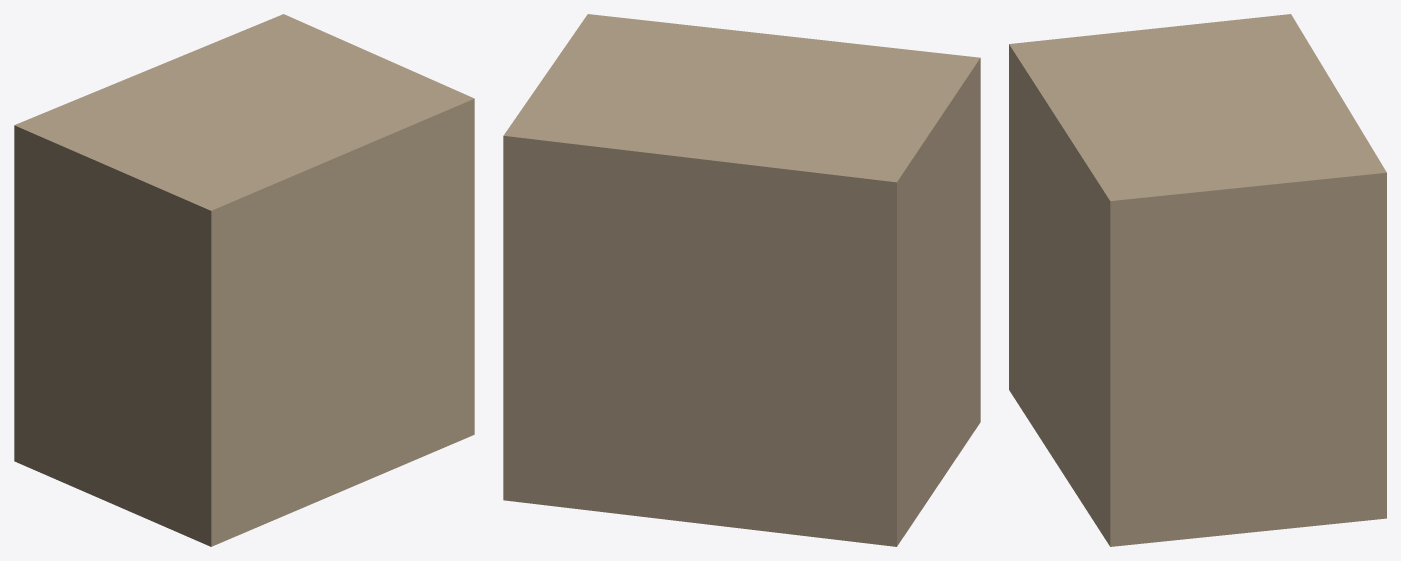
File: bld_109034810.dae
3 views of the same model, side by side, from view 1: azimuth 30°, elevation 25°; view 2: azimuth 150°, elevation 25°; view 3: azimuth 270°, elevation 25° (orthographic). The views are drawn at different scales.
Parts seen in each view (by area): view 1: bld_109034810; view 2: bld_109034810; view 3: bld_109034810.
Part boxes in pixels (box(x1,y1,x2,y2)): bld_109034810: box(14, 14, 474, 546); bld_109034810: box(503, 14, 980, 546); bld_109034810: box(1009, 14, 1386, 546).
Bounding box in the file's own units: 9.28 × 7.92 × 8.
